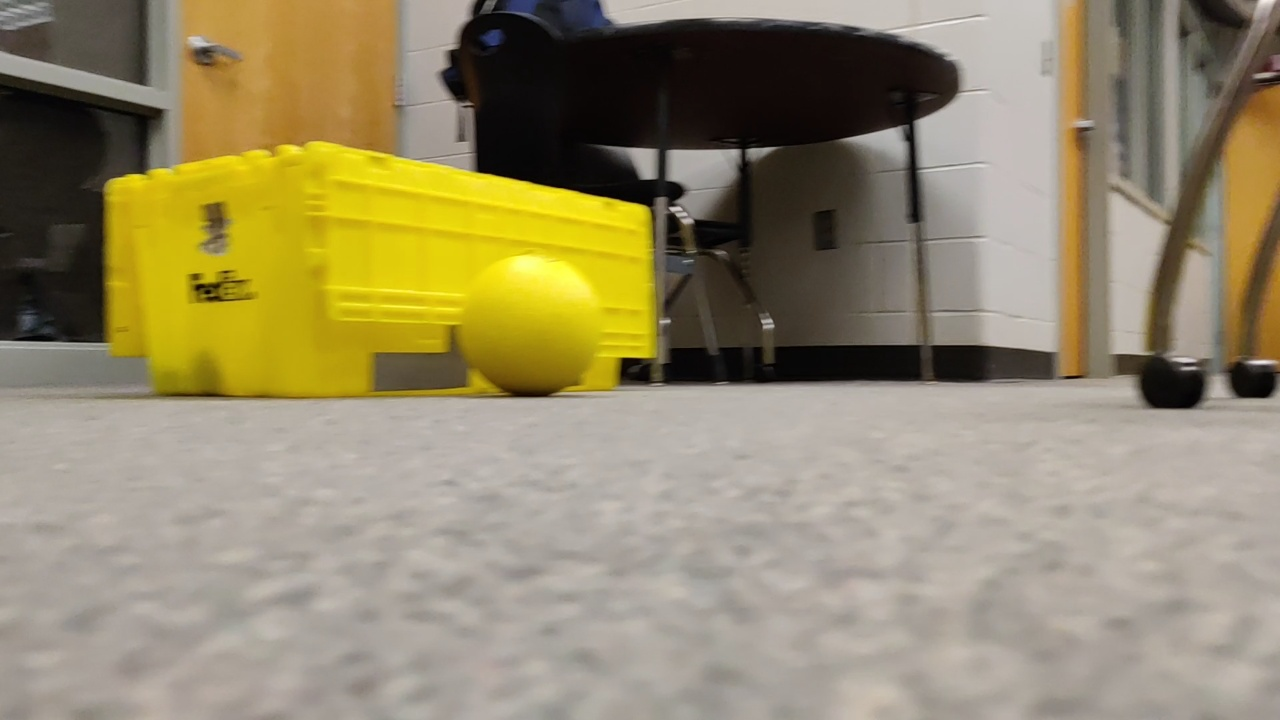Ball: (444, 252, 617, 399)
